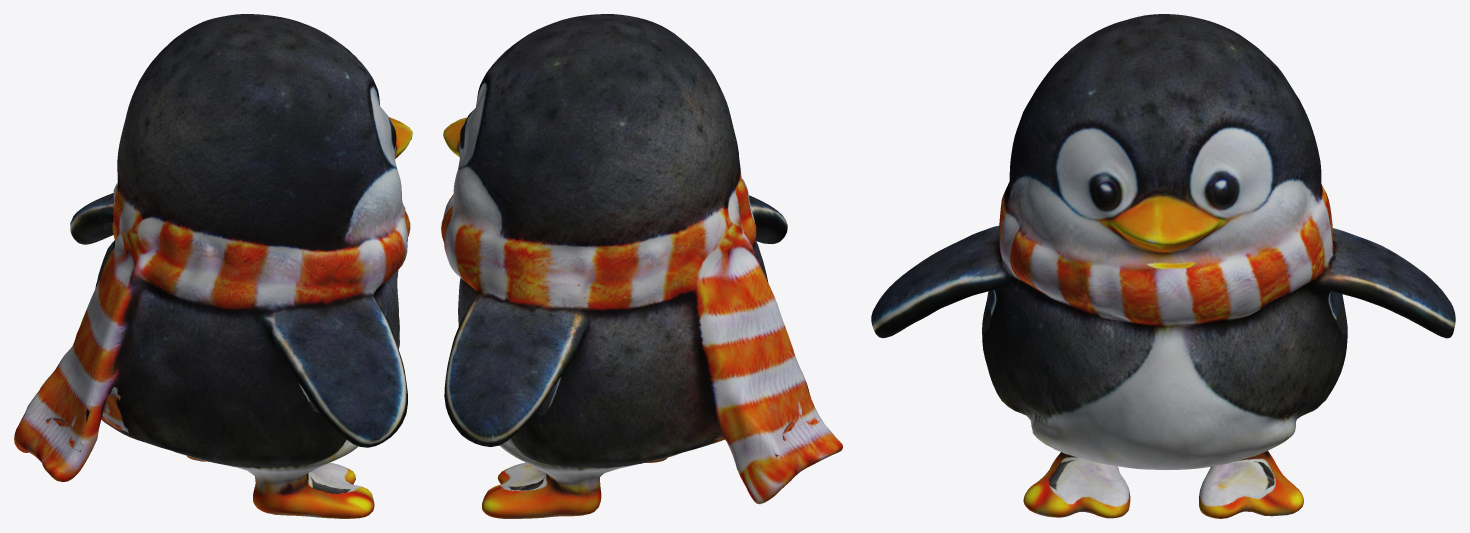
The model's file is 12c61772ffee_playful__cartoon_st.fbx.
The picture shows the model from 3 angles, left to right: view 1: azimuth 30°, elevation 25°; view 2: azimuth 150°, elevation 25°; view 3: azimuth 270°, elevation 25°; orthographic projection.
Visible parts, largest first — view 1: mesh; view 2: mesh; view 3: mesh.
Boxes of the visible parts, box(x1,y1,x2,y2) form: mesh: box(14, 14, 412, 518); mesh: box(441, 14, 842, 518); mesh: box(871, 14, 1455, 518).
Size of the model in its own units: 75.41 by 87.1 by 99.92.
